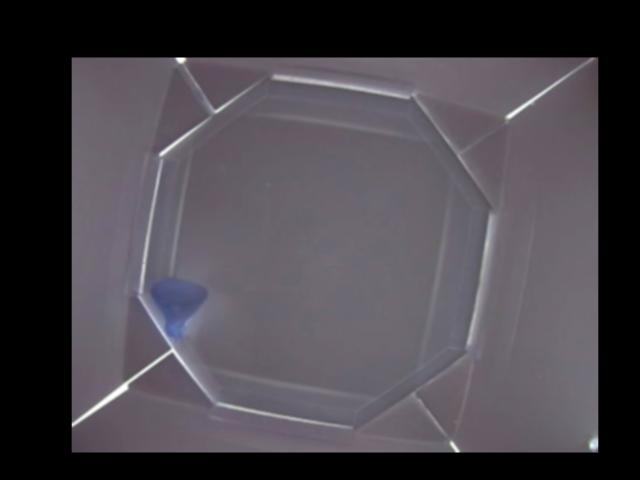Mooli: (149, 273, 209, 341)
